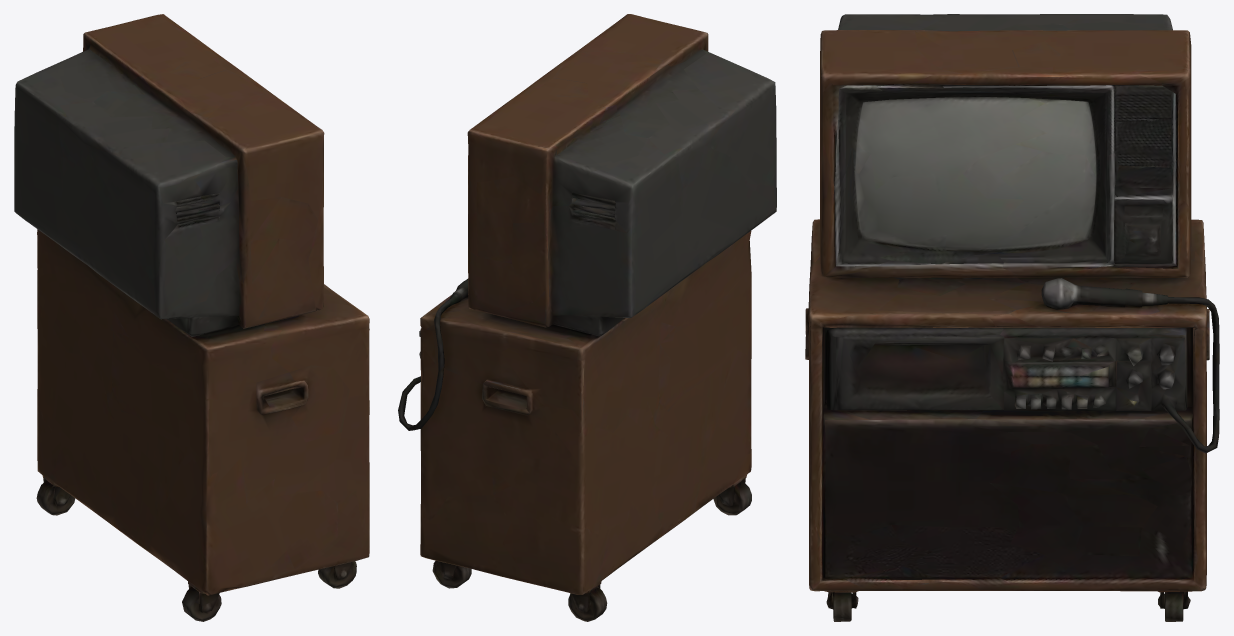
File: karaoke.glb
The picture shows the model from 3 angles, left to right: view 1: azimuth 30°, elevation 25°; view 2: azimuth 150°, elevation 25°; view 3: azimuth 270°, elevation 25°; orthographic projection. The views are drawn at different scales.
Parts seen in each view (by area): view 1: tripo_node_0e1f2c0f-d7c2-4e91-9b20-ace8698d1f84; view 2: tripo_node_0e1f2c0f-d7c2-4e91-9b20-ace8698d1f84; view 3: tripo_node_0e1f2c0f-d7c2-4e91-9b20-ace8698d1f84.
Part boxes in pixels (x1,y1,x2,y2): tripo_node_0e1f2c0f-d7c2-4e91-9b20-ace8698d1f84: (14, 14, 369, 621); tripo_node_0e1f2c0f-d7c2-4e91-9b20-ace8698d1f84: (398, 14, 776, 621); tripo_node_0e1f2c0f-d7c2-4e91-9b20-ace8698d1f84: (805, 14, 1219, 621).
Bounding box in the file's own units: 0.5022 × 1 × 0.7027.
1 material, 1 textured.
